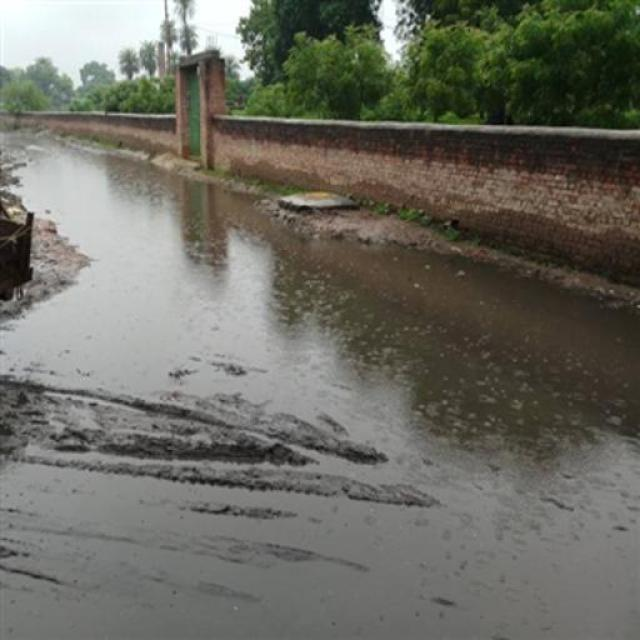puddle: (15, 313, 635, 507), (266, 253, 551, 411), (122, 199, 303, 327), (18, 123, 137, 217)
